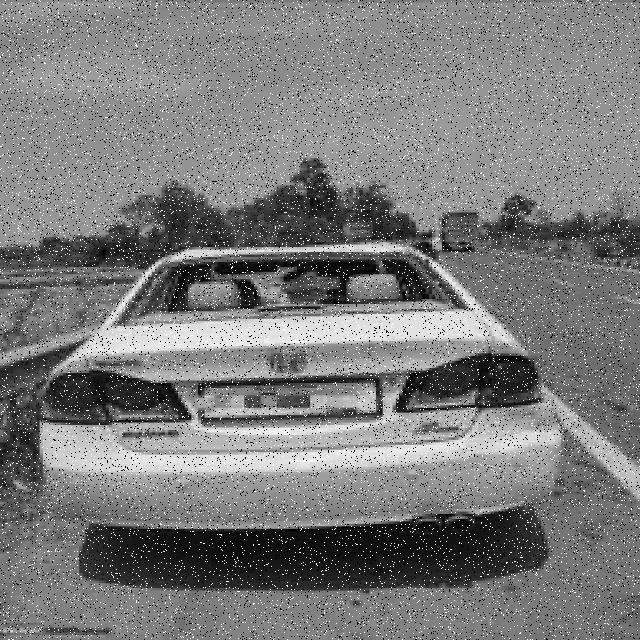Rear-windscreen-Damage: (117, 242, 466, 328)
